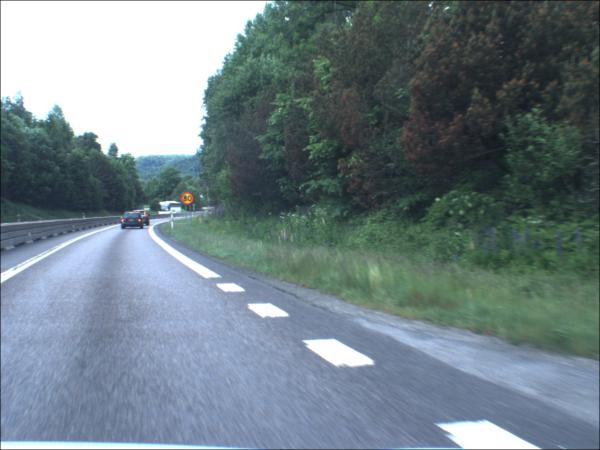80_SIGN: (182, 193, 196, 207)
